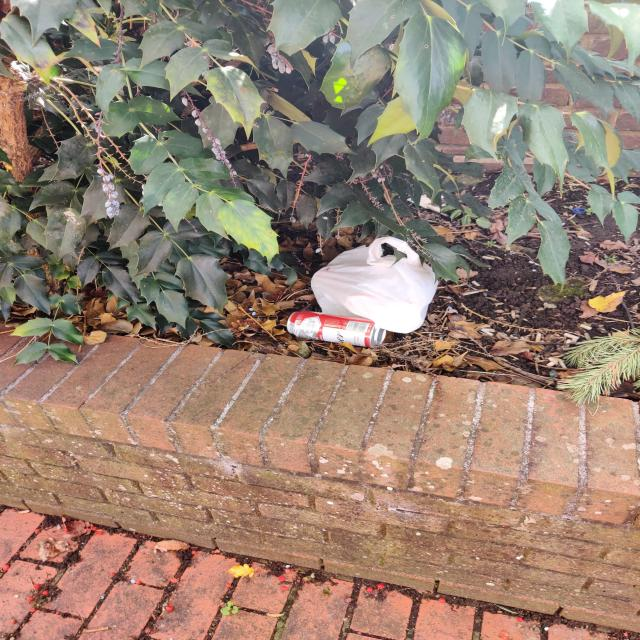litter: (311, 238, 436, 334), (288, 310, 371, 342)
